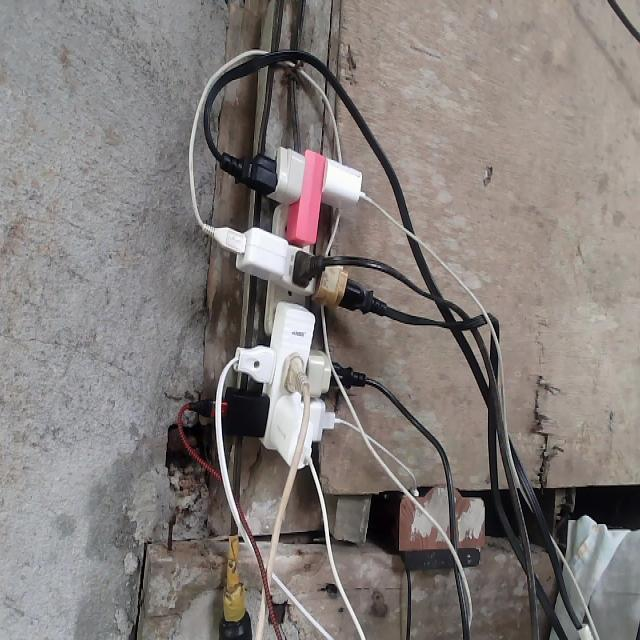-: (203, 144, 380, 469)
